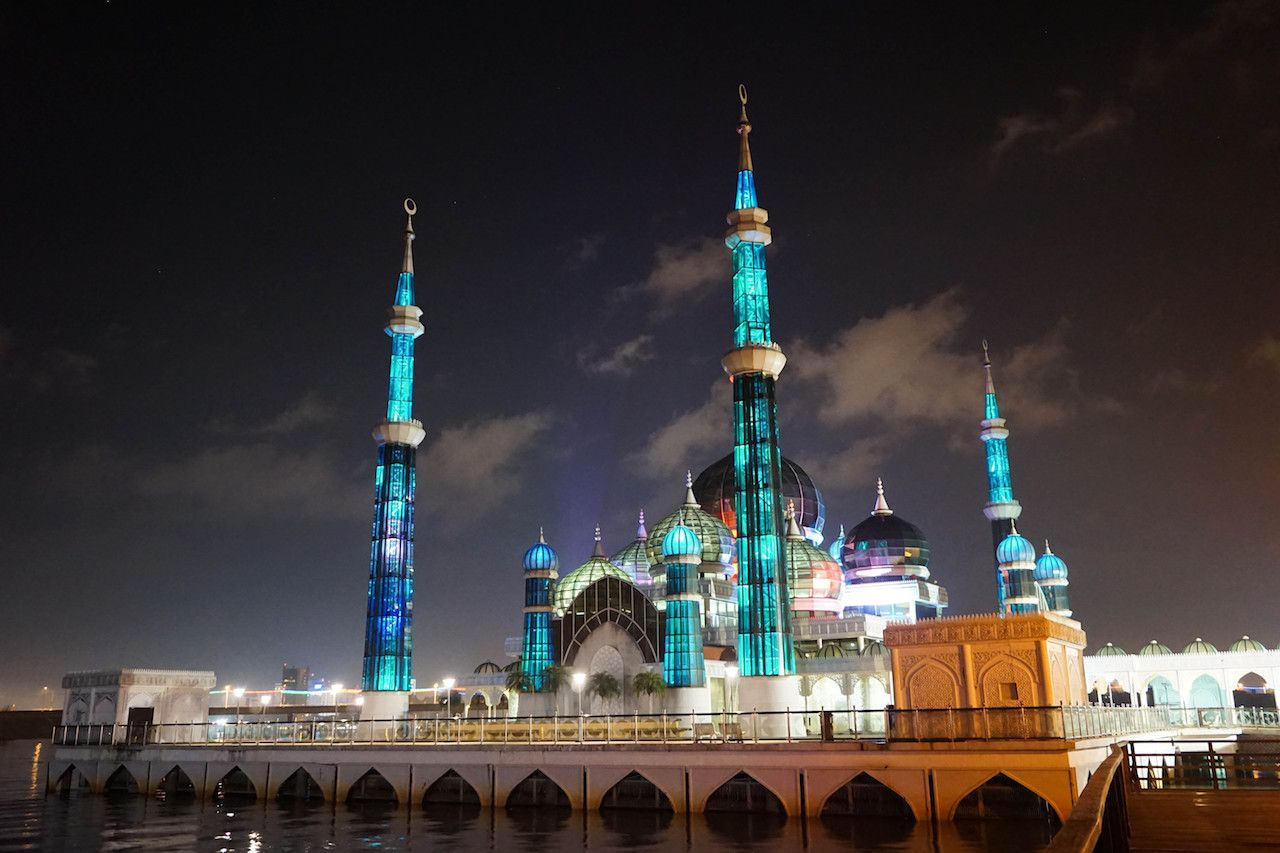Mosque: (212, 100, 1062, 736)
